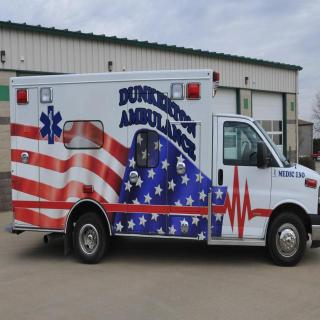Ambulance: (7, 57, 319, 270)
